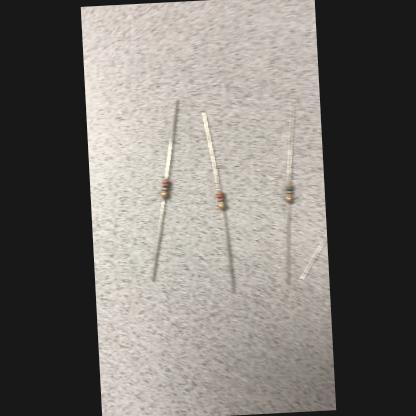resistor: (160, 179, 170, 197), (284, 184, 293, 202), (216, 192, 225, 210)
wire: (147, 198, 170, 281), (160, 100, 184, 178), (202, 109, 220, 191), (297, 233, 328, 278), (282, 106, 300, 183), (221, 210, 236, 292), (283, 203, 295, 284)
